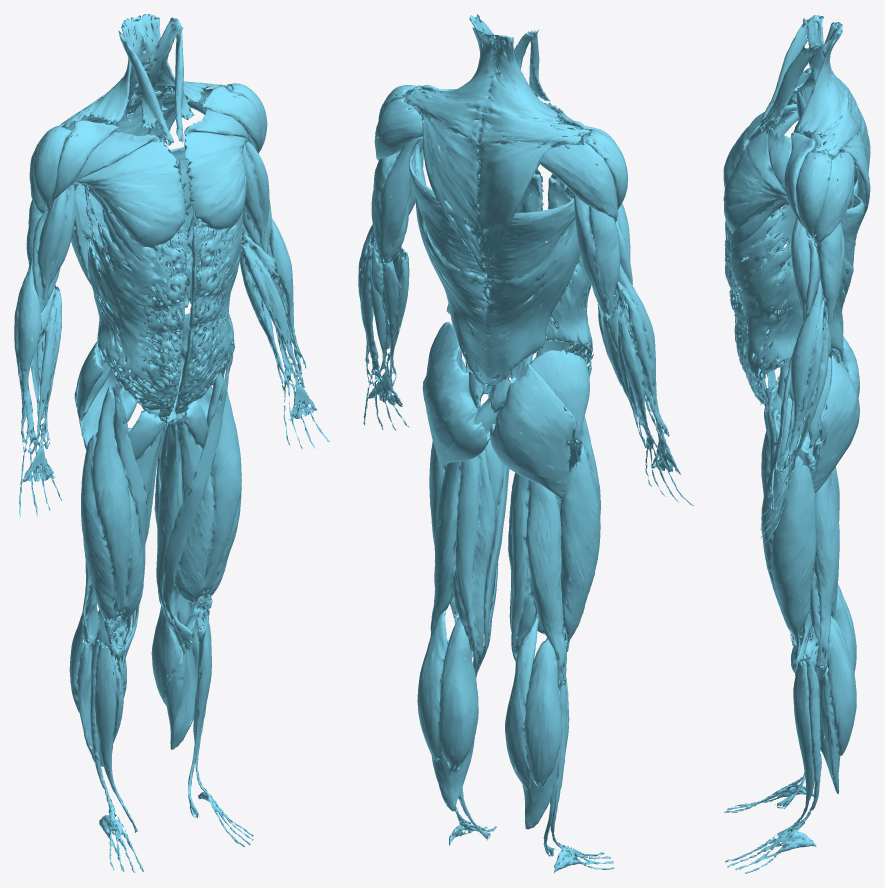
Rendered from muscles.glb.
3 views of the same model, side by side, from view 1: azimuth 30°, elevation 25°; view 2: azimuth 150°, elevation 25°; view 3: azimuth 270°, elevation 25° (orthographic). The views are drawn at different scales.
Parts seen in each view (by area): view 1: QUADS, OBLIQUES, FOREARMS, CHEST, CALVES, ADDUCTORS, BICEPS, TRAPS, NECK, FRONT_DELTS, LATS, SIDE_DELTS (+6 smaller); view 2: TRAPS, LATS, HAMSTRINGS, CALVES, FOREARMS, GLUTES, TRICEPS, QUADS, REAR_DELTS, ABDUCTORS, OBLIQUES, ADDUCTORS (+5 smaller); view 3: OBLIQUES, QUADS, FOREARMS, CALVES, CHEST, TRAPS, HAMSTRINGS, GLUTES, NECK, SIDE_DELTS, LATS, BICEPS (+5 smaller).
Boxes of the visible parts, bbox=[...] form: QUADS: bbox=[81, 354, 241, 666]; OBLIQUES: bbox=[87, 208, 242, 412]; FOREARMS: bbox=[14, 218, 329, 872]; CHEST: bbox=[70, 109, 252, 262]; CALVES: bbox=[69, 581, 211, 832]; ADDUCTORS: bbox=[123, 400, 207, 667]; BICEPS: bbox=[32, 141, 271, 311]; TRAPS: bbox=[59, 14, 230, 145]; NECK: bbox=[118, 17, 194, 145]; FRONT_DELTS: bbox=[50, 86, 261, 207]; LATS: bbox=[71, 146, 199, 307]; SIDE_DELTS: bbox=[33, 83, 267, 209]; TRAPS: bbox=[406, 27, 589, 279]; LATS: bbox=[409, 144, 580, 386]; HAMSTRINGS: bbox=[430, 449, 566, 687]; CALVES: bbox=[417, 604, 569, 856]; FOREARMS: bbox=[358, 224, 693, 873]; GLUTES: bbox=[422, 347, 577, 499]; TRICEPS: bbox=[371, 136, 620, 352]; QUADS: bbox=[429, 353, 600, 672]; REAR_DELTS: bbox=[374, 97, 617, 222]; ABDUCTORS: bbox=[426, 322, 589, 445]; OBLIQUES: bbox=[446, 168, 593, 377]; ADDUCTORS: bbox=[475, 398, 560, 677]; OBLIQUES: bbox=[724, 203, 803, 404]; QUADS: bbox=[761, 359, 816, 672]; FOREARMS: bbox=[723, 273, 829, 873]; CALVES: bbox=[774, 584, 856, 836]; CHEST: bbox=[723, 94, 798, 248]; TRAPS: bbox=[796, 22, 870, 232]; HAMSTRINGS: bbox=[804, 437, 839, 670]; GLUTES: bbox=[810, 336, 859, 492]; NECK: bbox=[759, 15, 824, 131]; SIDE_DELTS: bbox=[795, 67, 831, 238]; LATS: bbox=[808, 133, 864, 363]; BICEPS: bbox=[791, 90, 819, 321].
Size of the model in its own units: 0.6293 by 1.56 by 0.2564.
